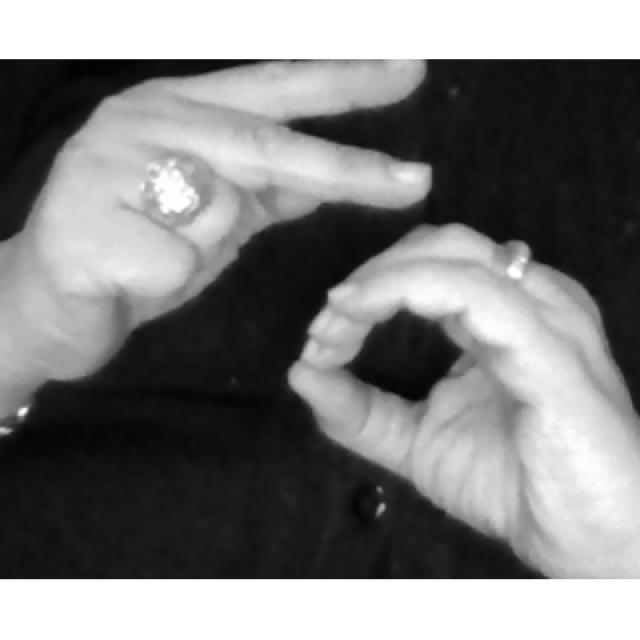O--: (22, 58, 640, 579)
